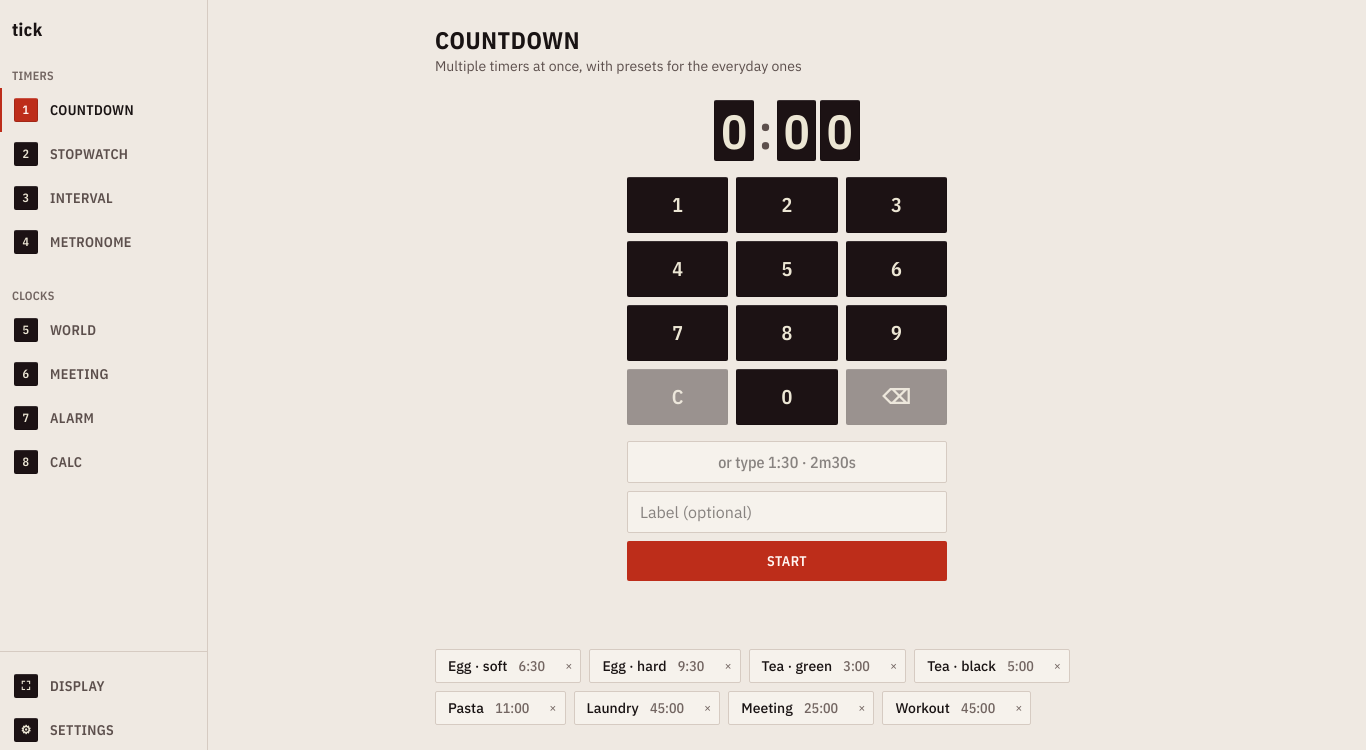
Test: every tool, end to end › meeting: builds a grid, offers a window, and converts the chosen instant
This screenshot has width=1366, height=750.
Press 6
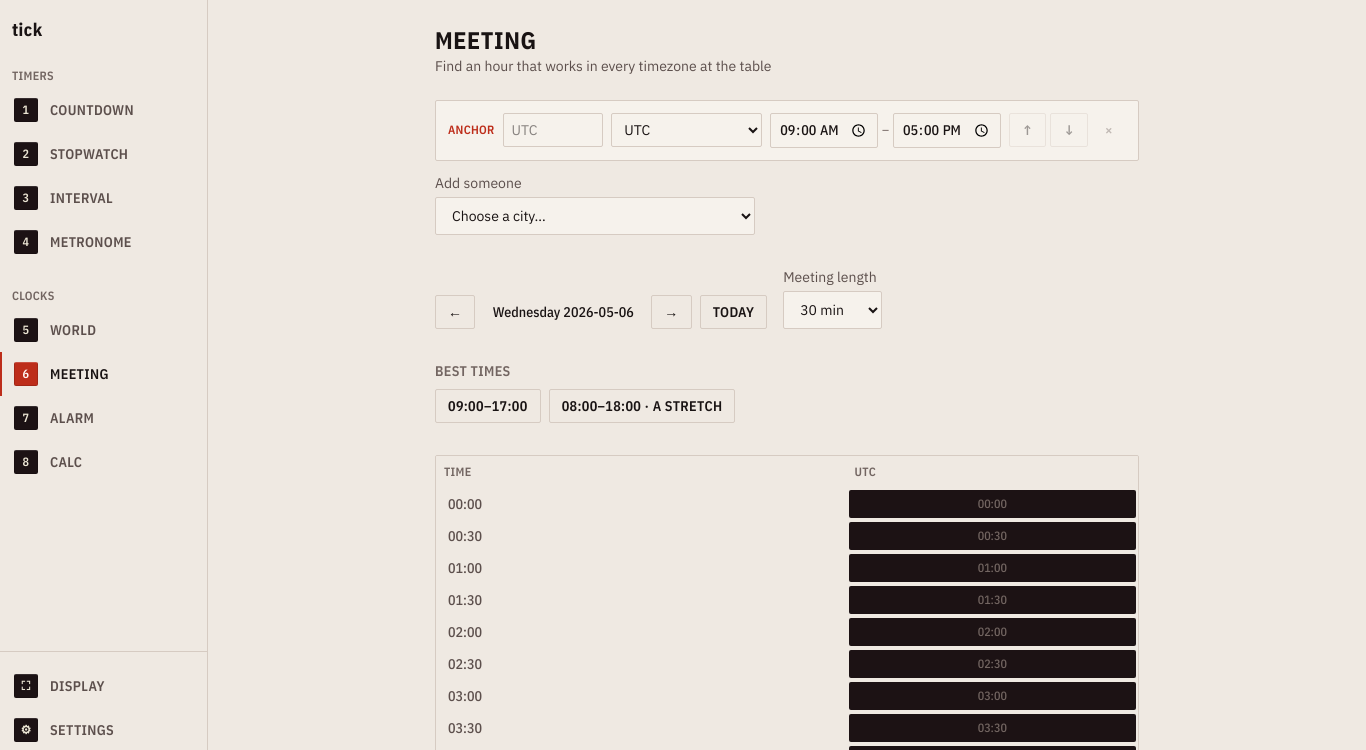
Expected: the heading "Meeting" is shown, [435,24,536,56]
Select "New York" in the dropdown named "Add a participant" at (595, 216), box [435,197,755,235]
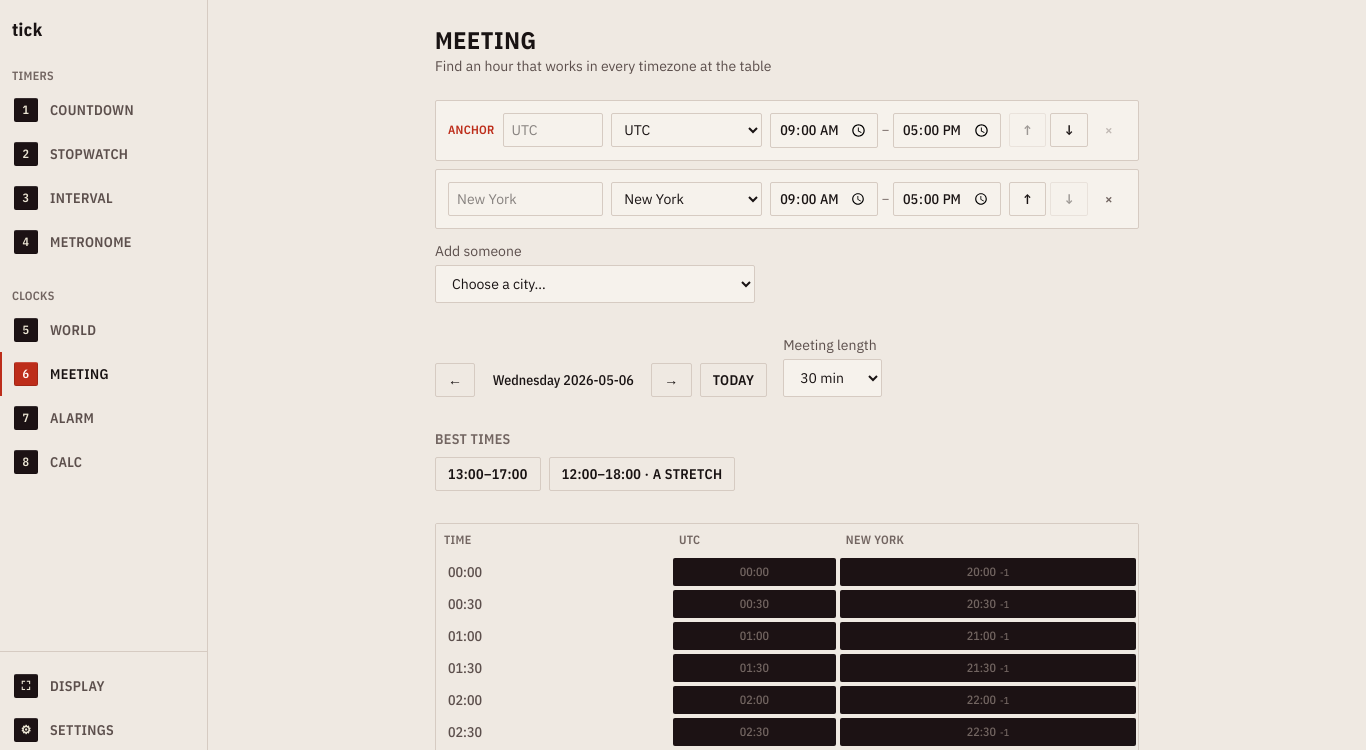
Expected: the column heading "New York" is shown, [838,524,1138,556]
Expected: the button "13:00–17:00" is shown
Click the button "13:00–17:00".
click(488, 474)  # box [435,457,541,491]
(page scrolled)
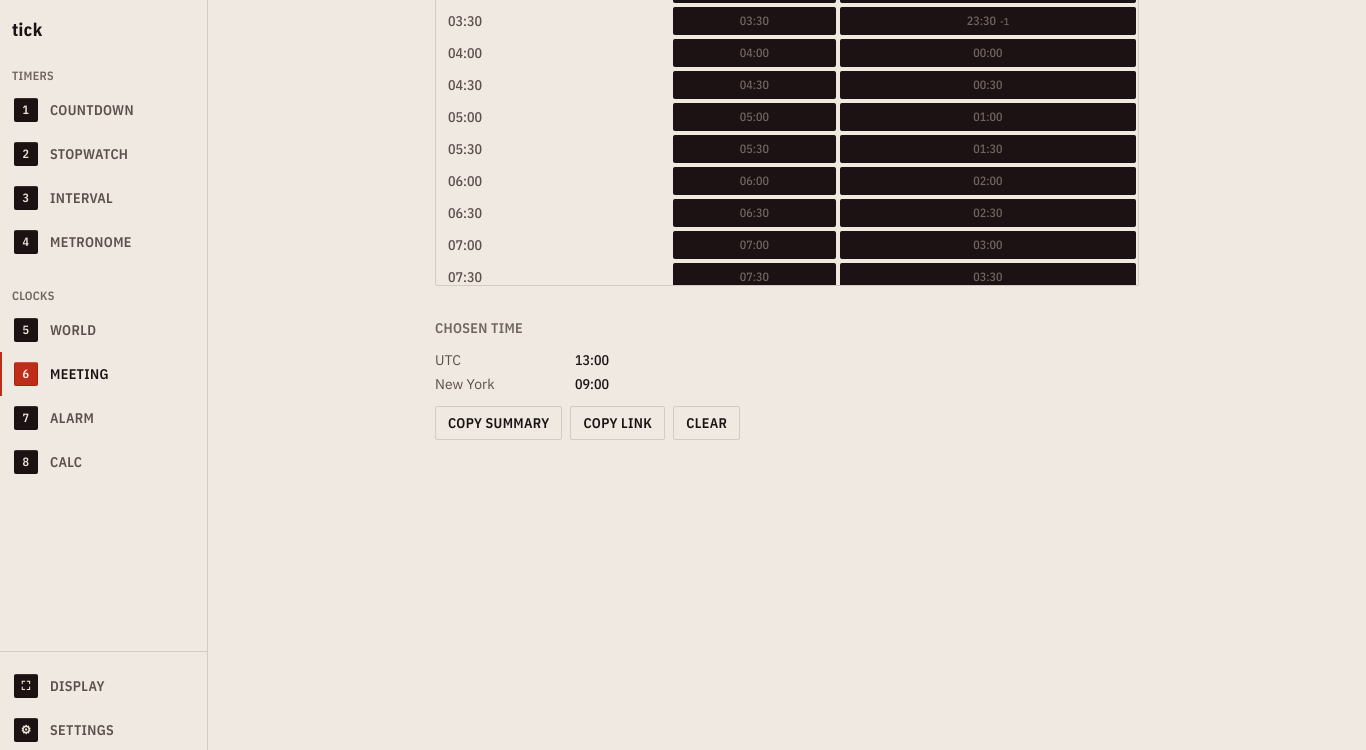
Expected: the element "Chosen time" is shown, [435,319,740,440]
